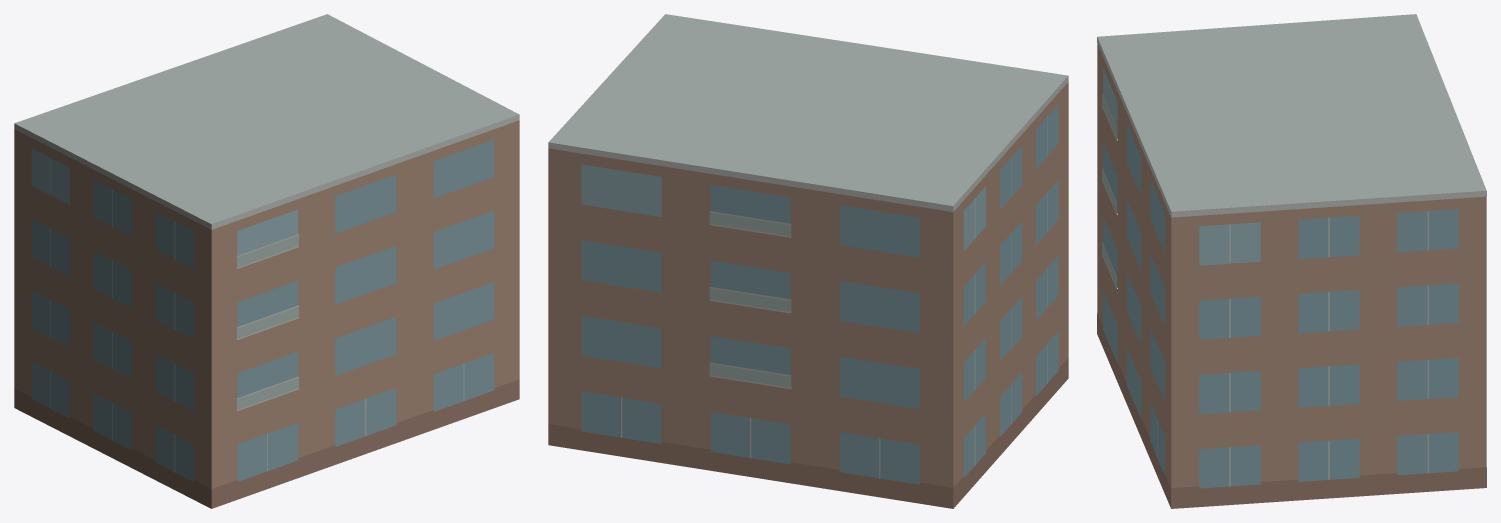
File: survey-upis-32715415.glb
The picture shows the model from 3 angles, left to right: view 1: azimuth 30°, elevation 25°; view 2: azimuth 150°, elevation 25°; view 3: azimuth 270°, elevation 25°; orthographic projection. The views are drawn at different scales.
Parts seen in each view (by area): view 1: survey-upis-32715415.tmp; view 2: survey-upis-32715415.tmp; view 3: survey-upis-32715415.tmp.
Part boxes in pixels (left/top/right/bottom): survey-upis-32715415.tmp: left=14, top=14, right=519, bottom=508; survey-upis-32715415.tmp: left=548, top=14, right=1068, bottom=508; survey-upis-32715415.tmp: left=1097, top=14, right=1486, bottom=508.
Bounding box in the file's own units: 17.71 × 12.4 × 14.75.
